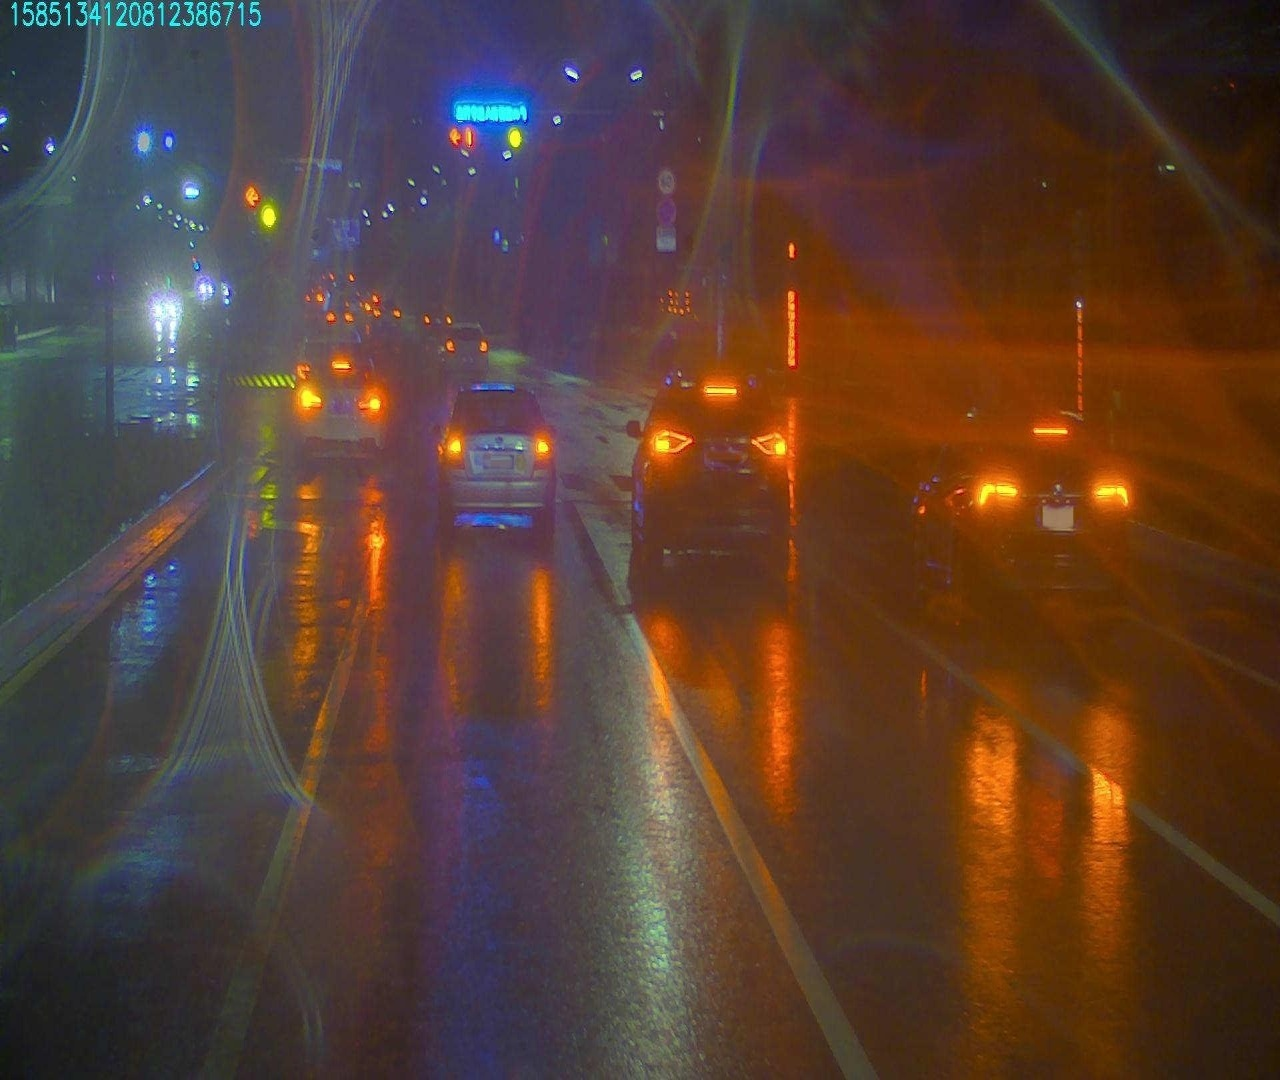red: (446, 126, 478, 149), (243, 184, 260, 207)
yellow: (505, 133, 524, 154), (263, 198, 278, 223)
